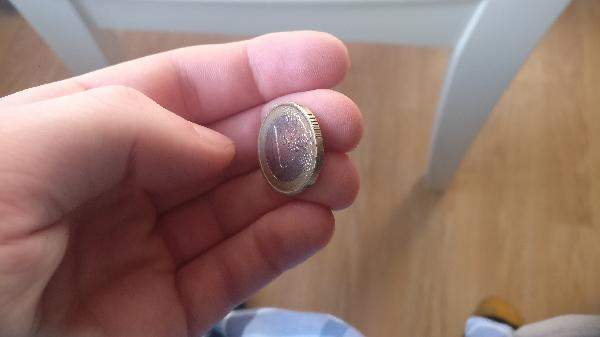One Euro: (258, 102, 323, 196)
